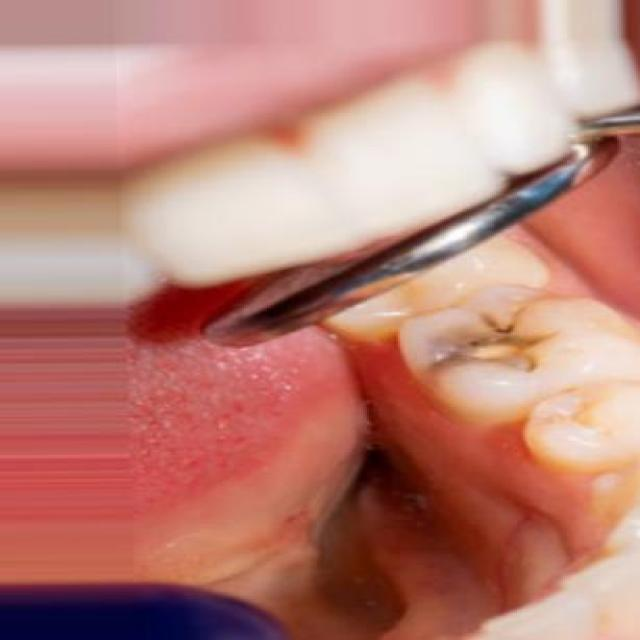caries: (376, 303, 598, 389)
